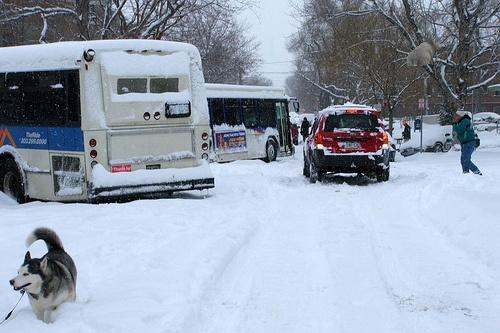tampered: (408, 41, 441, 66)
